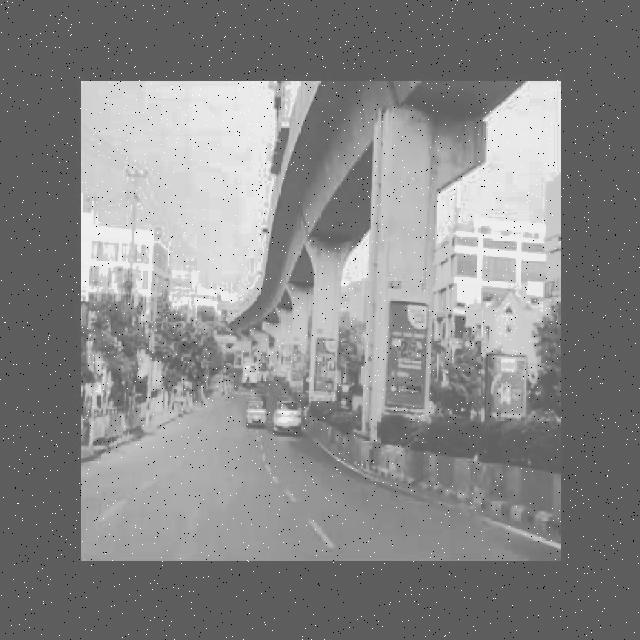Car: (266, 385, 306, 439)
